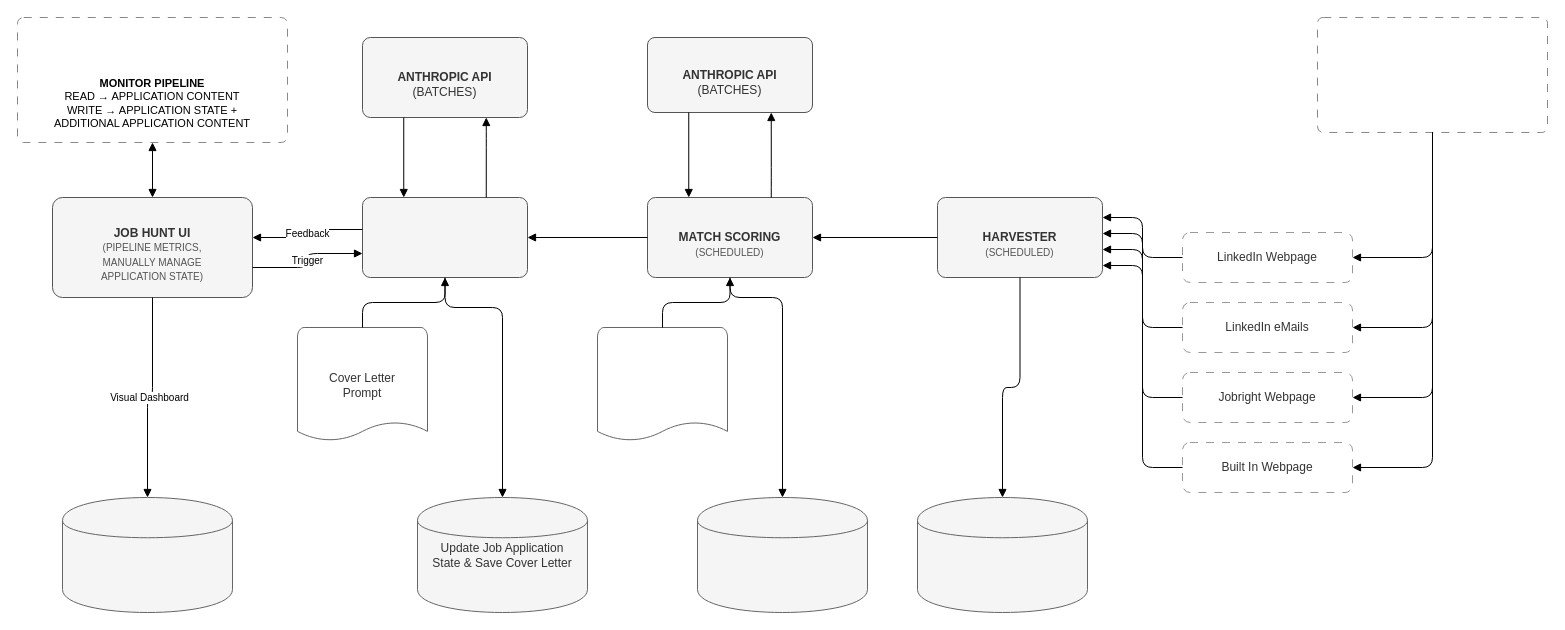
The diagram is 1565 pixels wide and 630 high, and some of its shapes have lost their labels. The shapes that lost their labels are listed below. From the top down, each one's centre as x and y in pixels, then its label:
At (x=1432, y=74): "MANUALLY CONFIGURE JOB BOARD PREFERENCES ON EXTERNAL JOB BOARDS".
At (x=445, y=237): "APPLICATION PREP".
At (x=662, y=384): "Match Scoring Prompt".
At (x=147, y=554): "Store Updates To Job Application State & Other Application Content".
At (x=782, y=554): "Match Score & Commentary".
At (x=1002, y=554): "Raw Job Descriptions".
